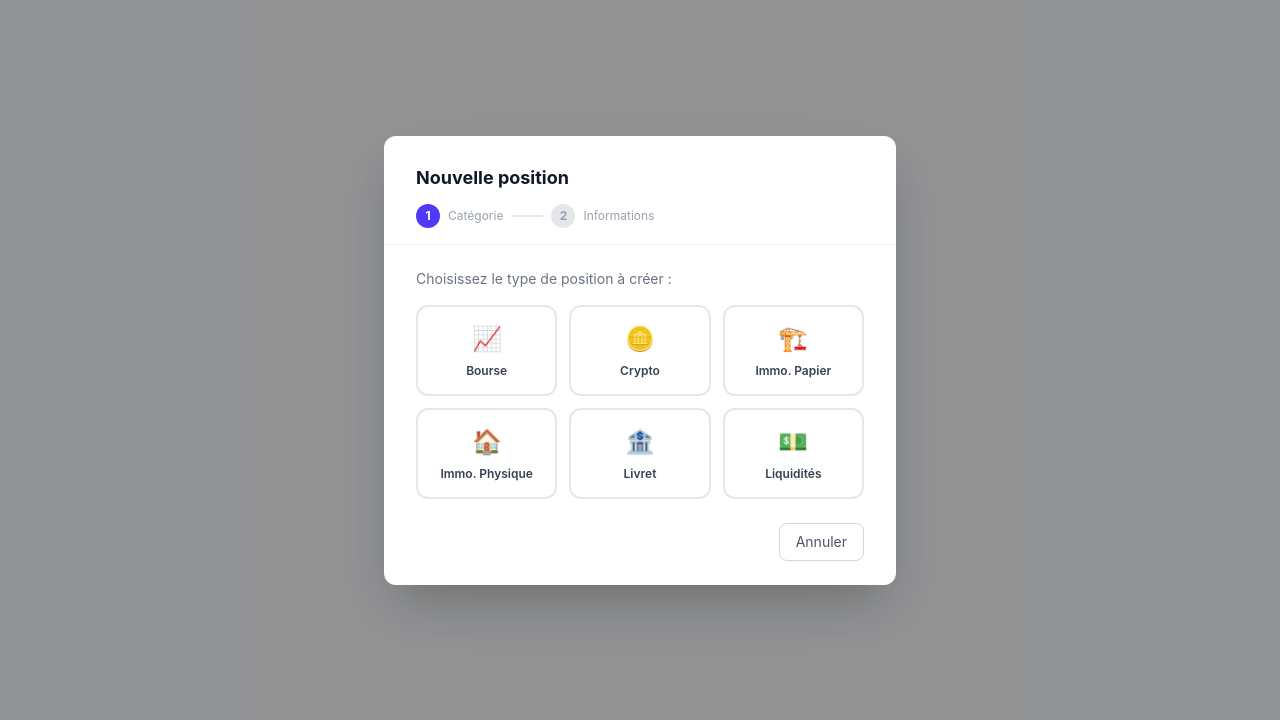
Test: PositionForm — wizard 2 étapes › affiche "Créer un nouvel instrument" quand aucun résultat (après debounce)
Click the text "Bourse" at {"x": 487, "y": 370}, box [466,362,507,378]
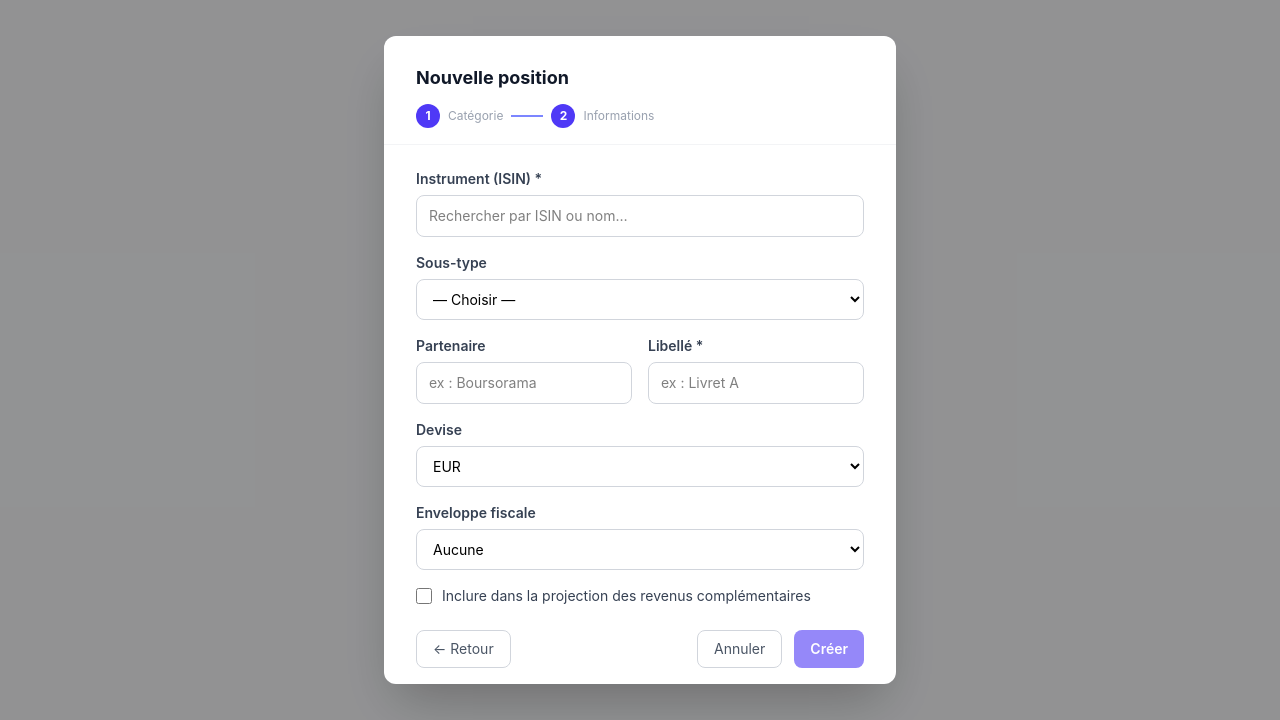
Type "XY123" into the field with placeholder "Rechercher par ISIN ou nom…" at {"x": 640, "y": 216}, box [416,195,864,237]
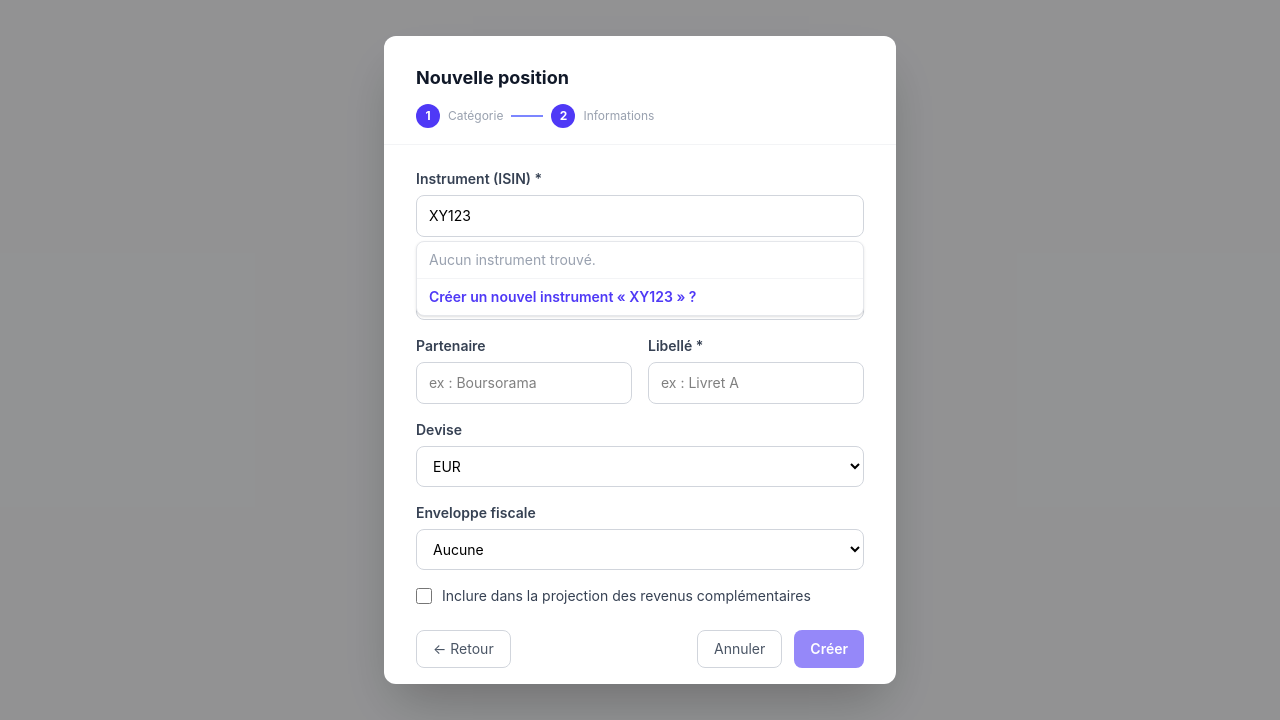
Expected: the button "Créer un nouvel instrument « XY123 » ?" is shown, [417,278,863,315]
